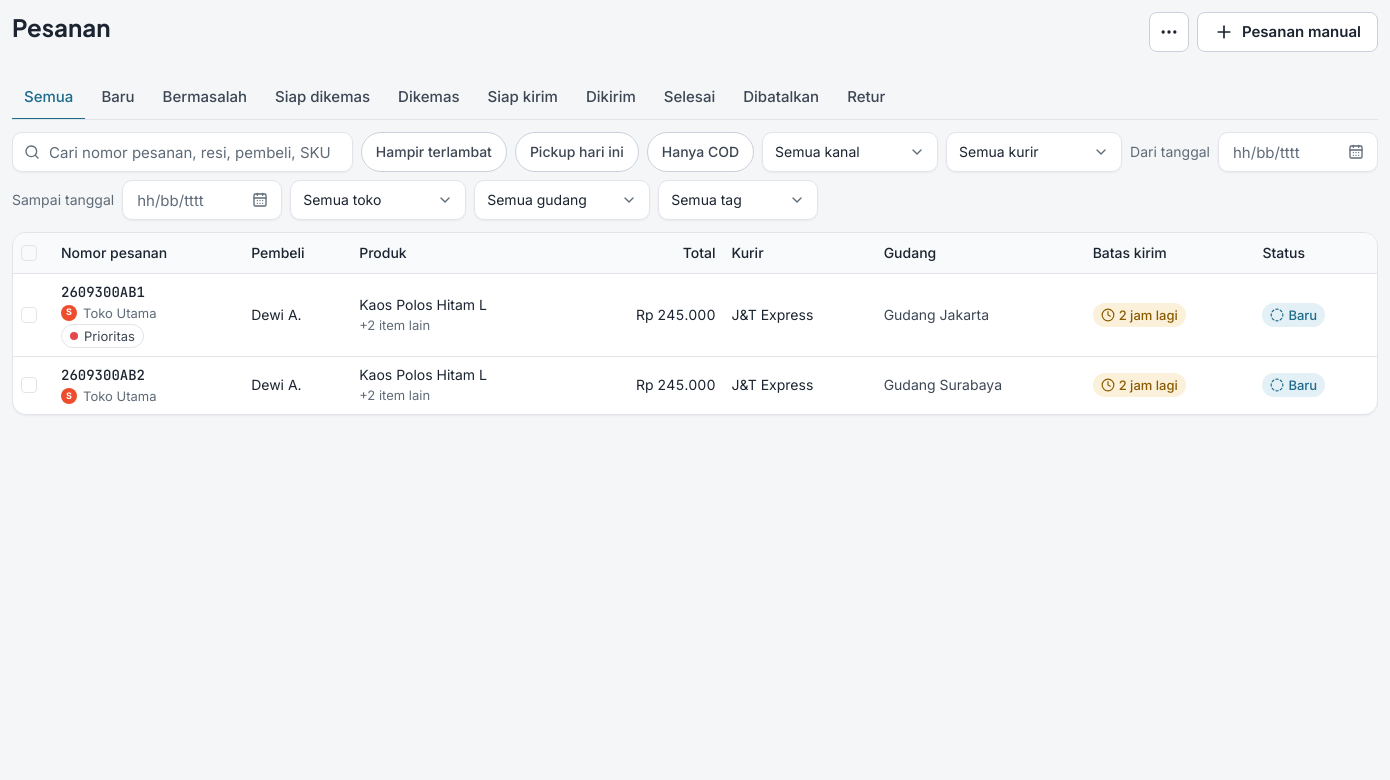
Test case: OrdersView: stores, warehouses, tags, and reading orders again › reads a store's orders again, offering only marketplace stores whose connection works
The width and height of the screenshot is (1390, 780).
Click the button named "Aksi lain".
click(1169, 32)  # box [1149,12,1189,52]
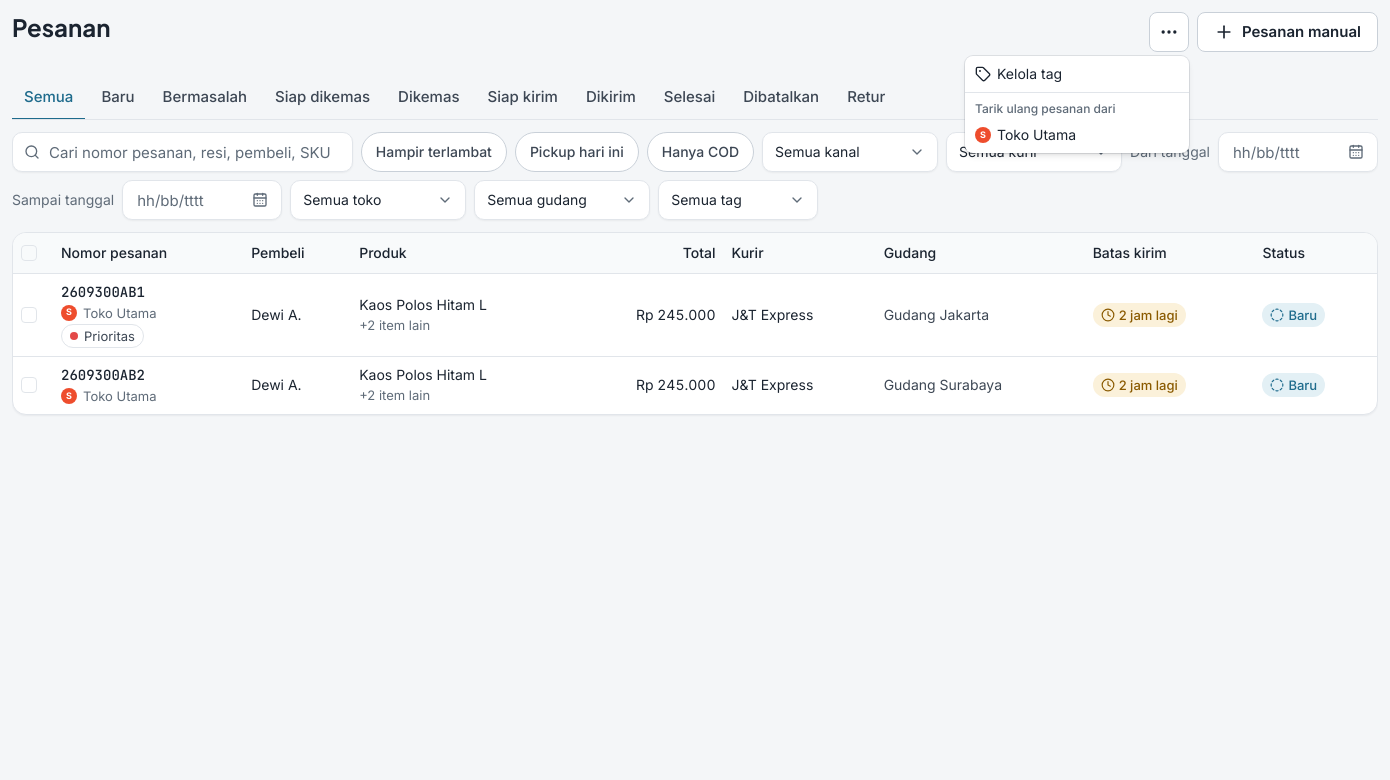
Check: the number of menu items is 2
Check: the menu item "Kelola tag" is shown, box [975,65,1062,82]
Click the menu item "S Toko Utama".
click(1026, 134)  # box [975,126,1076,143]
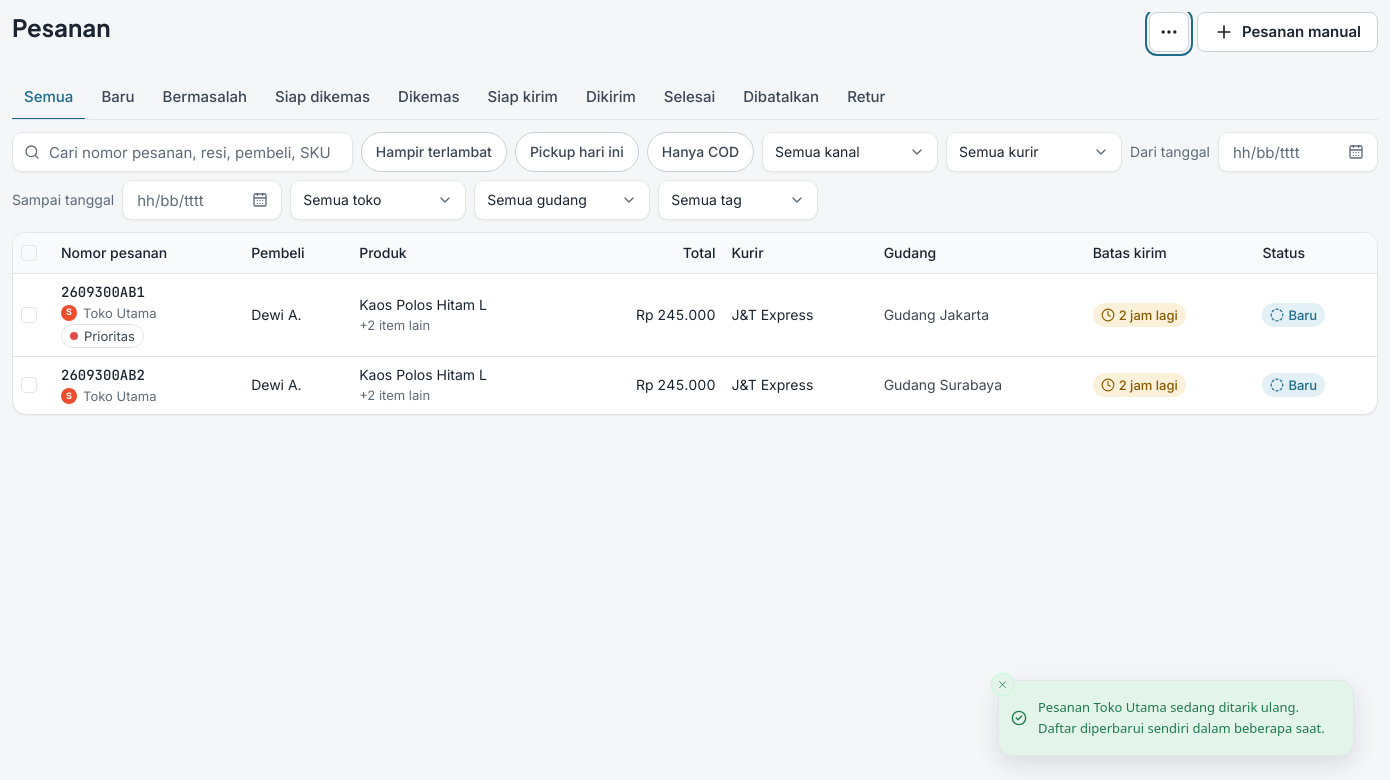
Check: the text "Pesanan Toko Utama sedang ditarik ulang" is shown, box [1038,698,1325,737]
